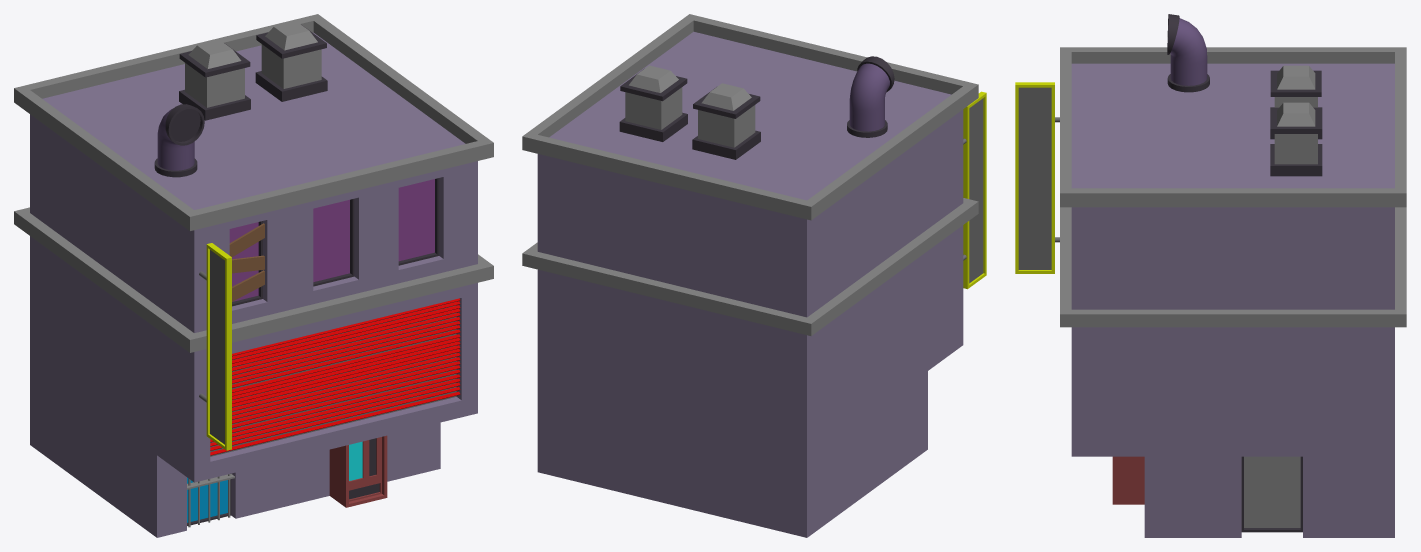
Rendered from House4.fbx.
The picture shows the model from 3 angles, left to right: view 1: azimuth 30°, elevation 25°; view 2: azimuth 150°, elevation 25°; view 3: azimuth 270°, elevation 25°; orthographic projection. The views are drawn at different scales.
Visible parts, largest first — view 1: House_R_4; view 2: House_R_4; view 3: House_R_4.
Boxes of the visible parts, bbox=[...] form: House_R_4: bbox=[14, 14, 493, 537]; House_R_4: bbox=[522, 14, 986, 537]; House_R_4: bbox=[1015, 14, 1406, 537].
Bounding box in the file's own units: 967 × 1253 × 1094.
